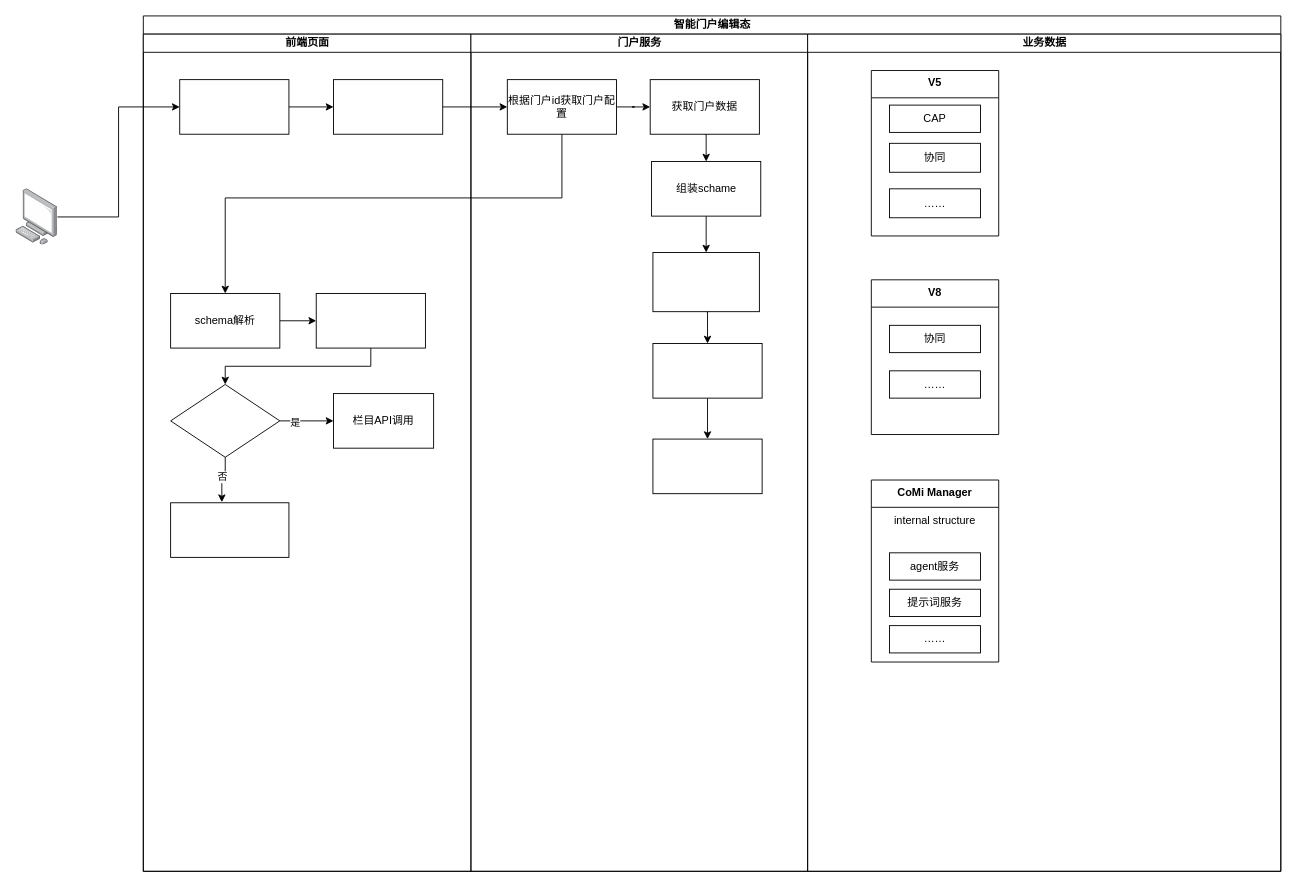
Image size: 1297x887. Some labels were removed from this diagram. The centre of each missing label's shape, as x and y in pixels:
"新建或编辑对应门户" goes at point (234, 106).
"是否有数据源" goes at point (225, 420).
"渲染布局与主题，分析栏目数据源" goes at point (370, 320).
"直接渲染栏目" goes at point (229, 529).
"获取JSON-schema" goes at point (388, 106).
"获取布局下的栏目配置" goes at point (707, 466).
"获取视图下栏目布局" goes at point (707, 370).
"获取门户下的视图" goes at point (705, 282).
